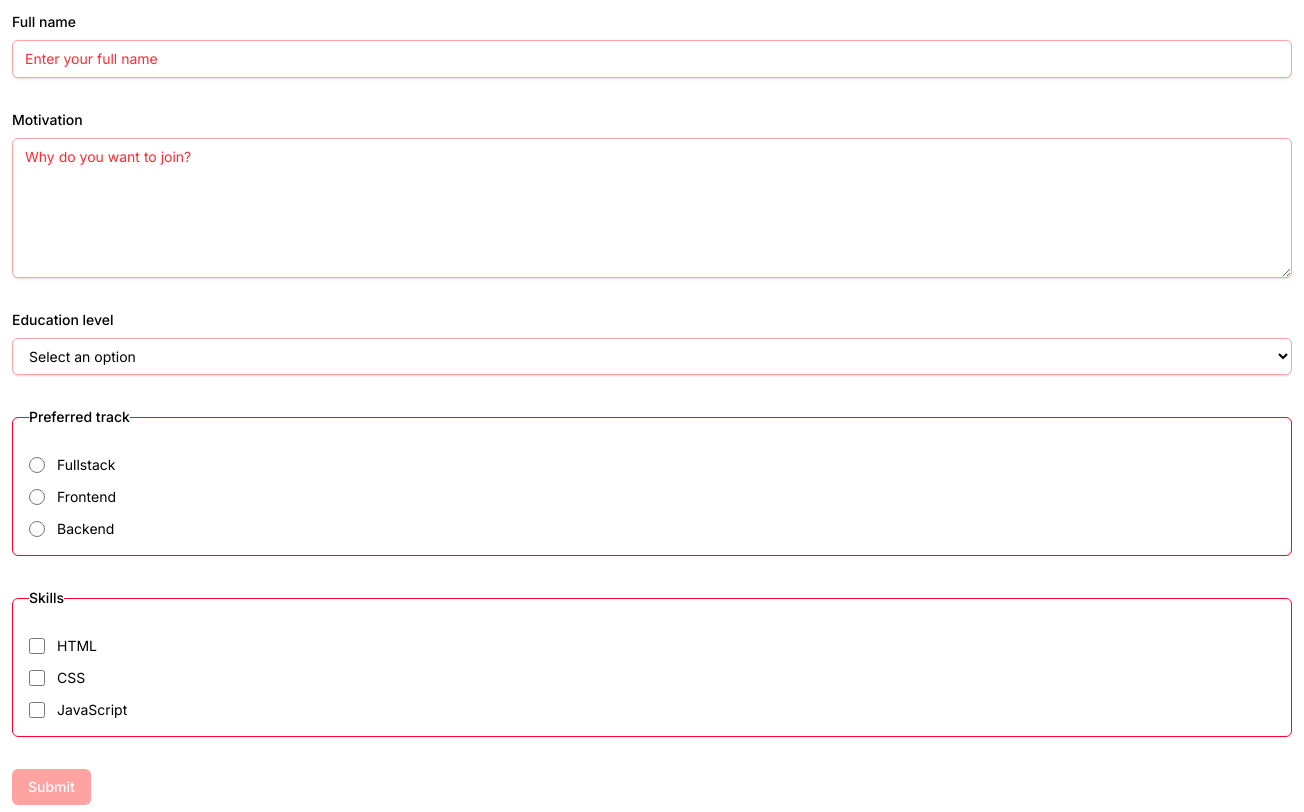
Scenario: QuestionRenderer › enables submit when all required fields are valid
In the field labelled "Full name": (652, 59) 12,40 -> 1292,78, type "Dorah Whali"
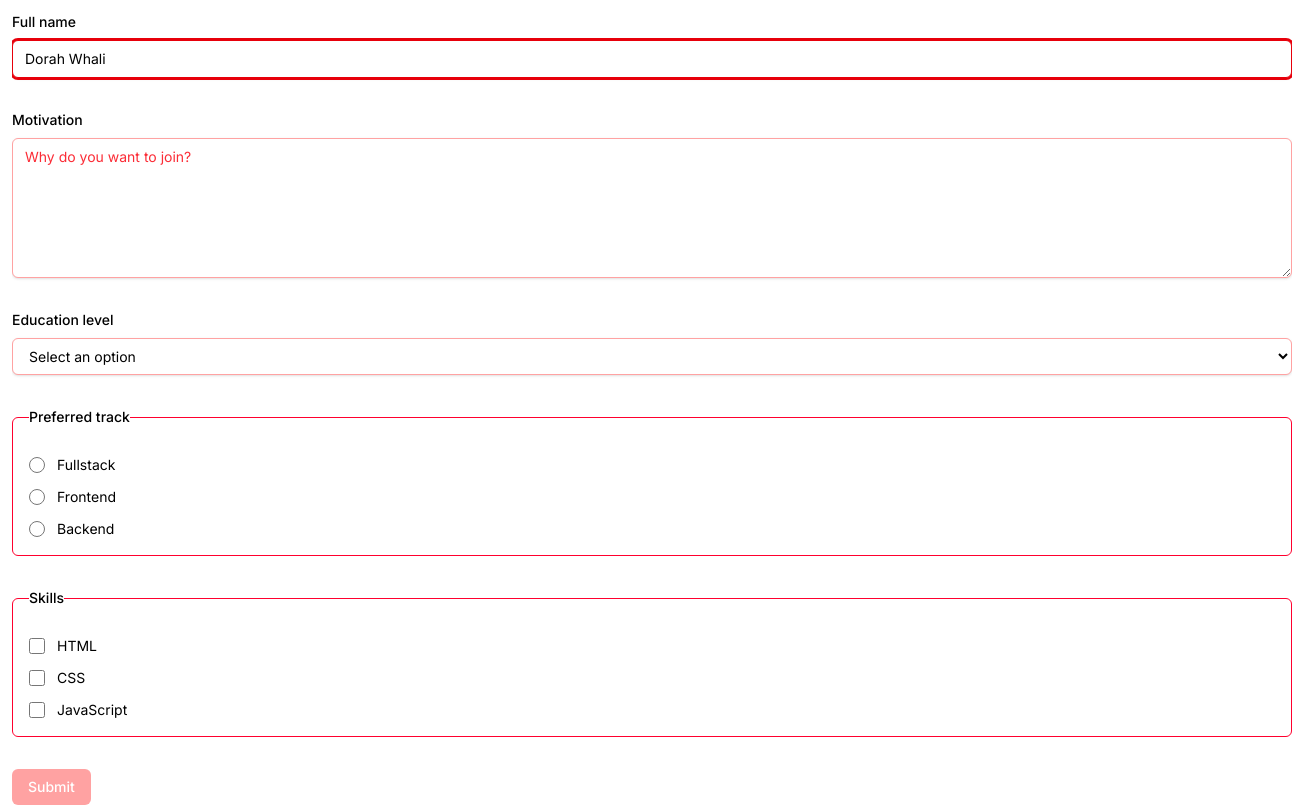
In the text box labelled "Motivation": (652, 208) 12,138 -> 1292,278, type "I want to join because I love building apps."
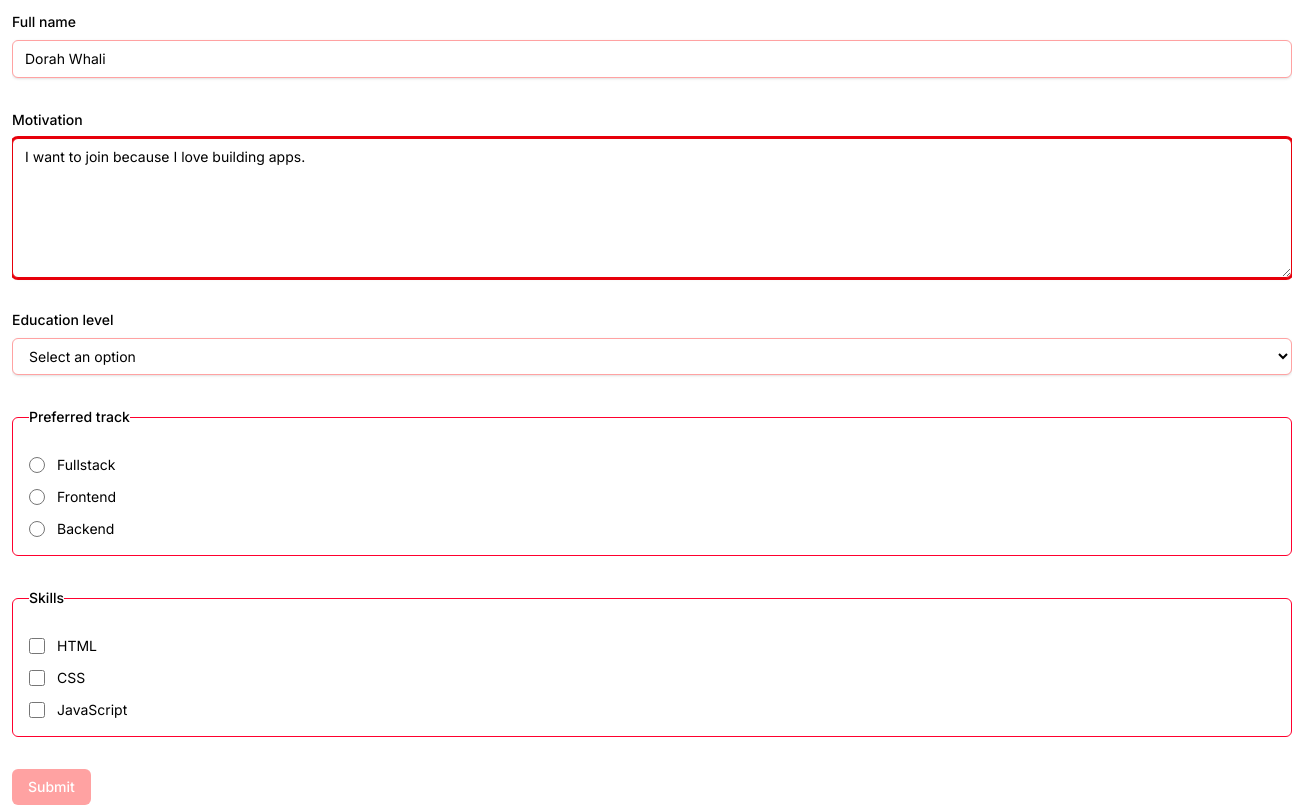
Select "Bachelor's" in the dropdown: (652, 356) 12,338 -> 1292,375
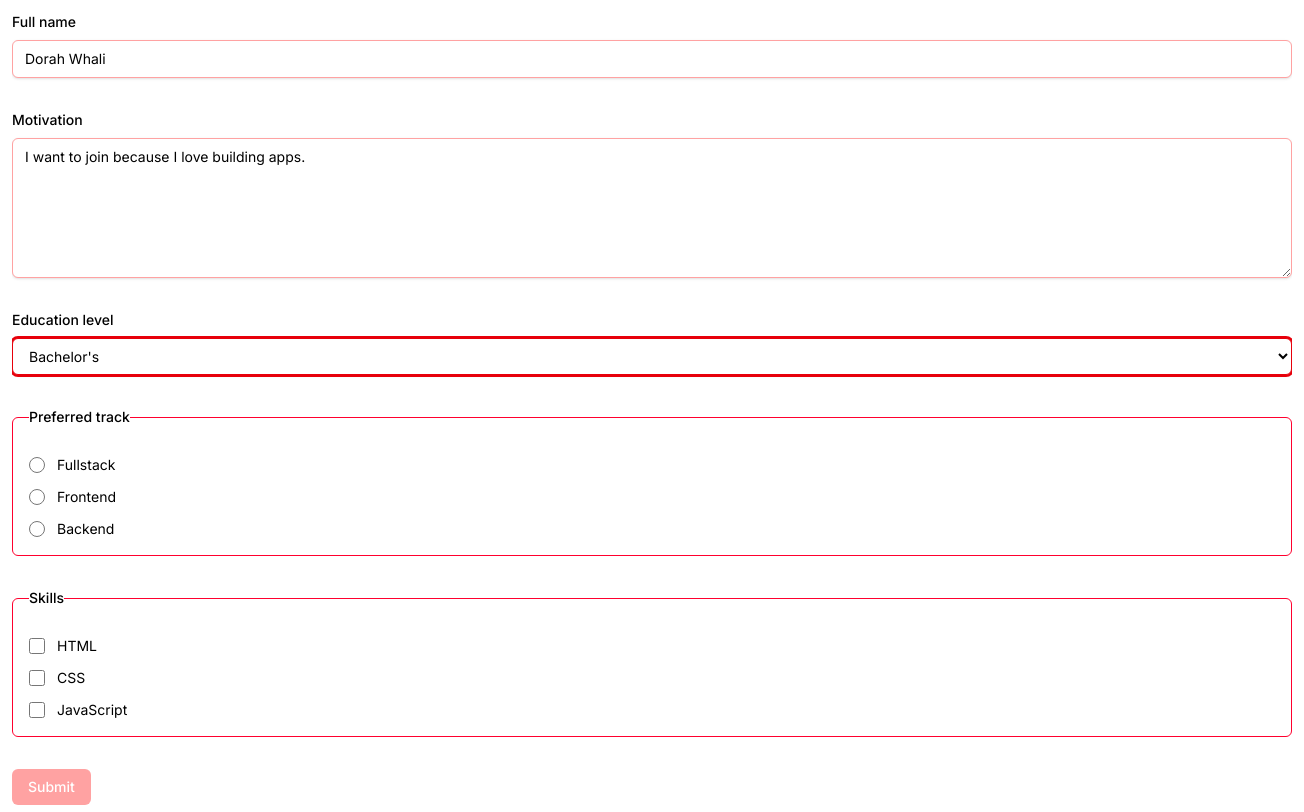
Click the radio button labelled "Fullstack": click(37, 465) 29,457 -> 45,473
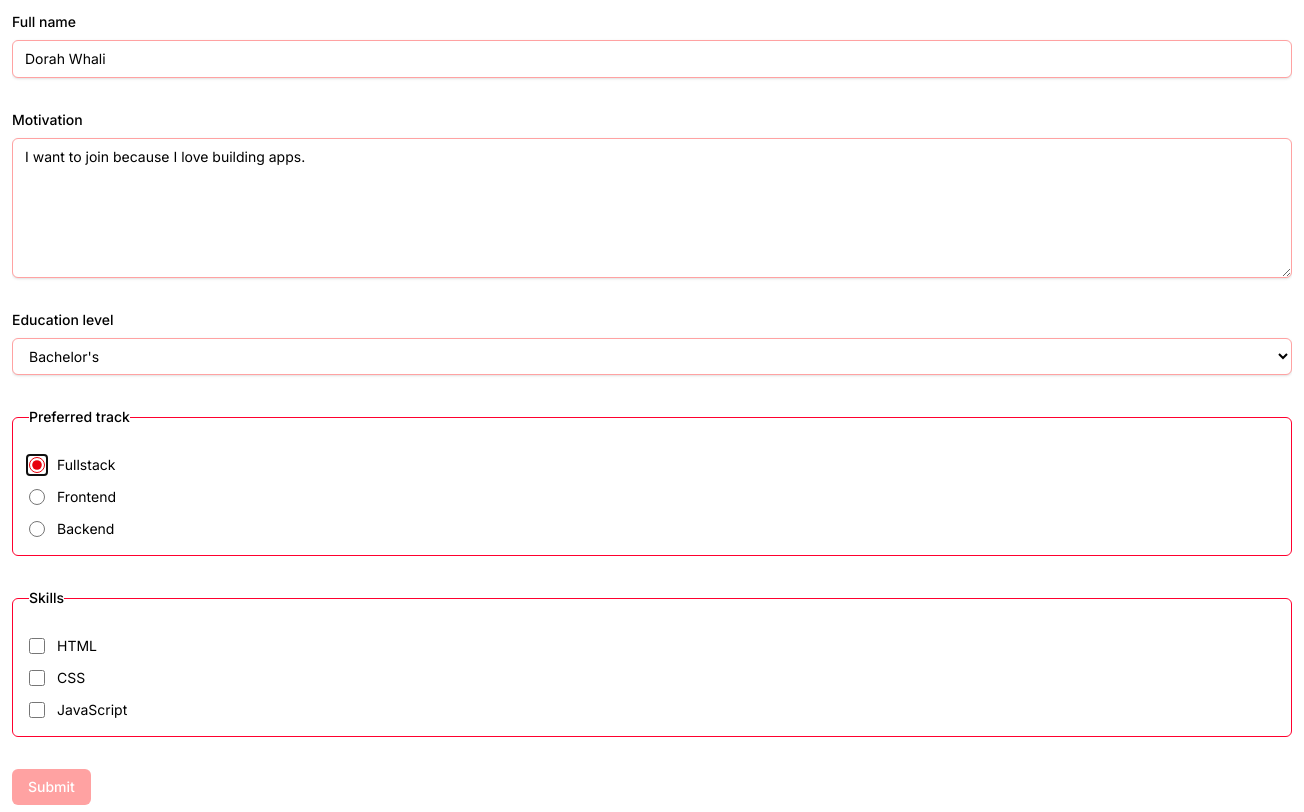
Click the checkbox labelled "HTML": click(37, 646) 29,638 -> 45,654
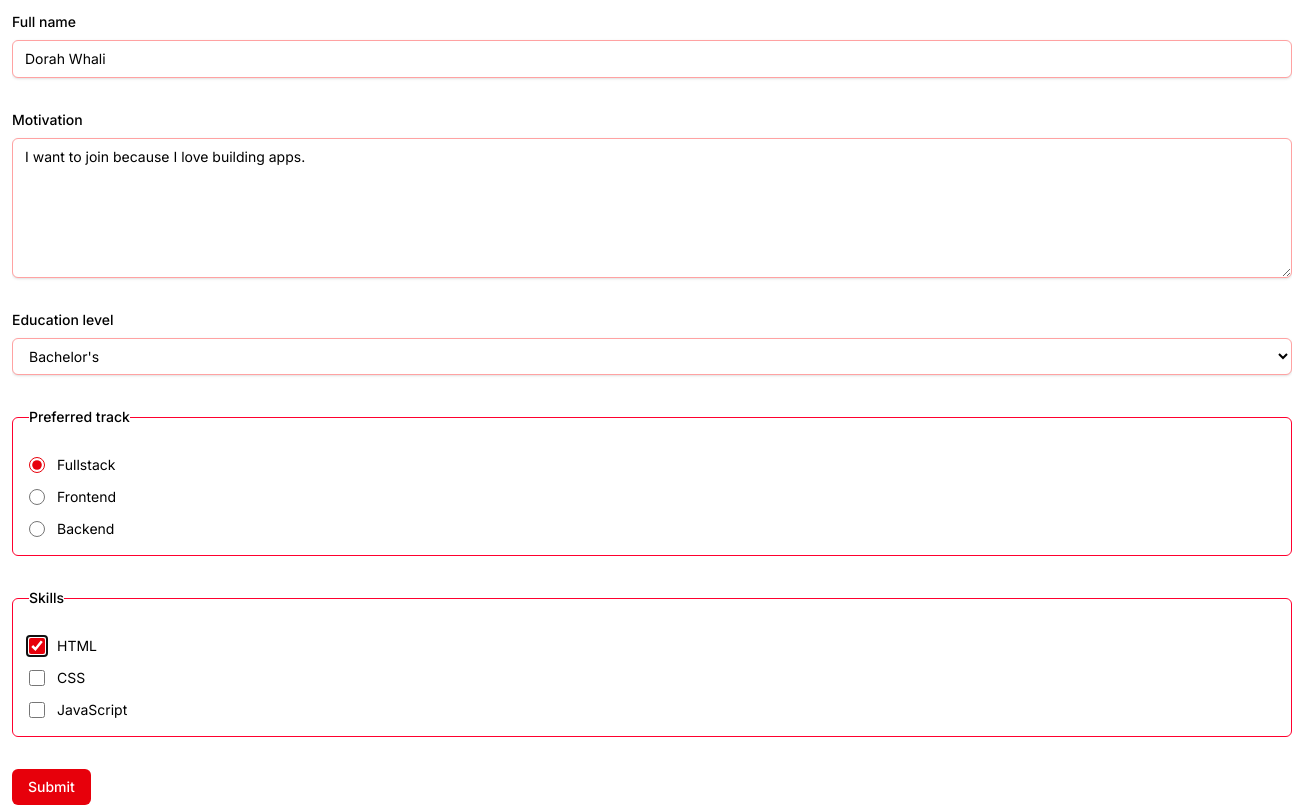
Now the button "Submit" is enabled, box 12,769 -> 91,805
